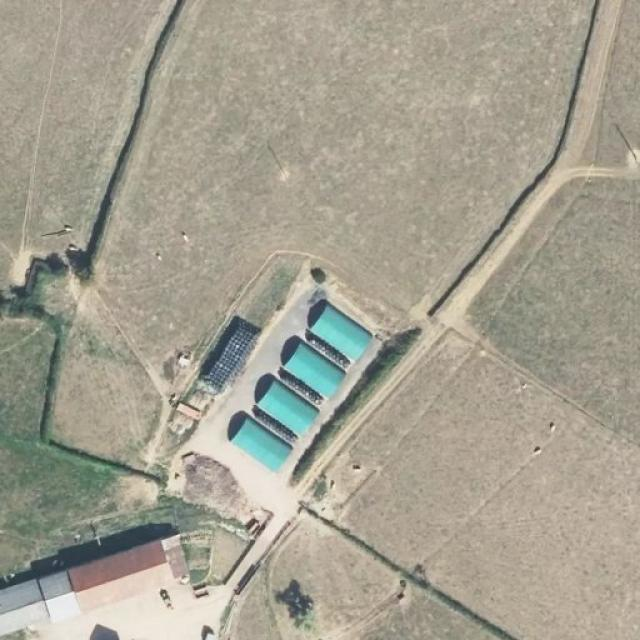ferme: (64, 524, 188, 604), (230, 401, 292, 459), (257, 363, 318, 421), (312, 285, 372, 341), (284, 326, 344, 380)
maison: (0, 572, 49, 636), (36, 562, 78, 614)
